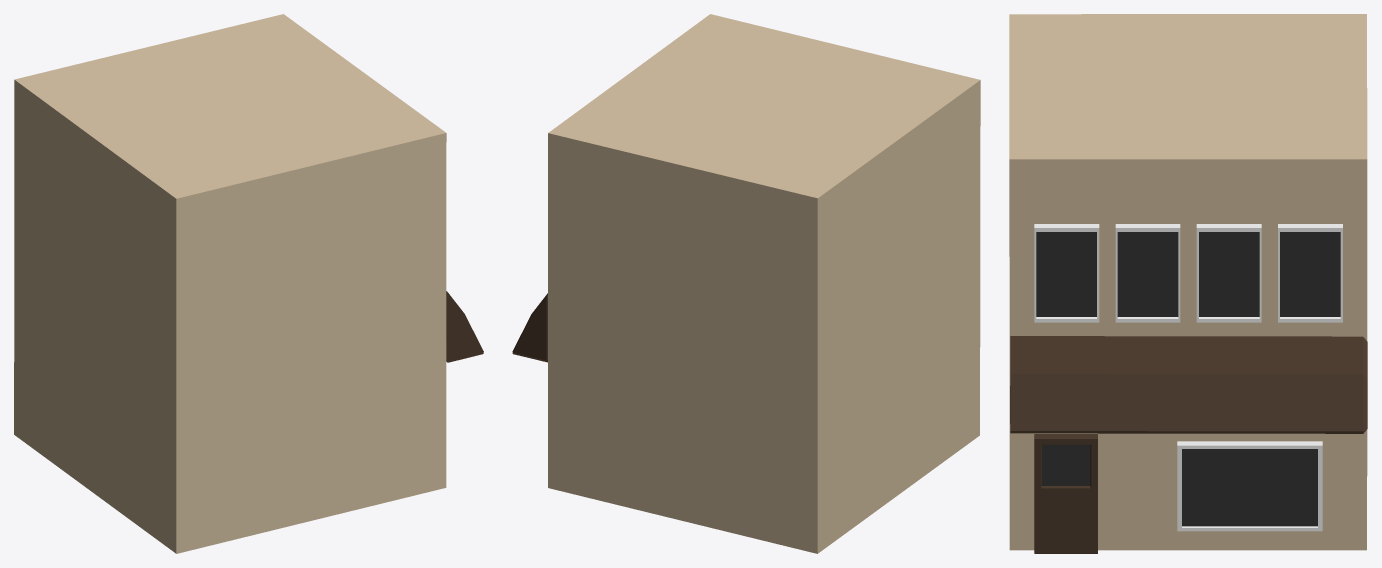
3 renders of one model, left to right at view 1: azimuth 30°, elevation 25°; view 2: azimuth 150°, elevation 25°; view 3: azimuth 270°, elevation 25°, orthographic. The views are drawn at different scales.
Visible parts, largest first — view 1: BusinessBuildings.016; view 2: BusinessBuildings.016; view 3: BusinessBuildings.016.
Part boxes in pixels (left/top/right/bottom): BusinessBuildings.016: left=14, top=14, right=483, bottom=553; BusinessBuildings.016: left=512, top=14, right=980, bottom=553; BusinessBuildings.016: left=1009, top=14, right=1367, bottom=553.
Bounding box in the file's own units: 90.69 × 100 × 82.97.
